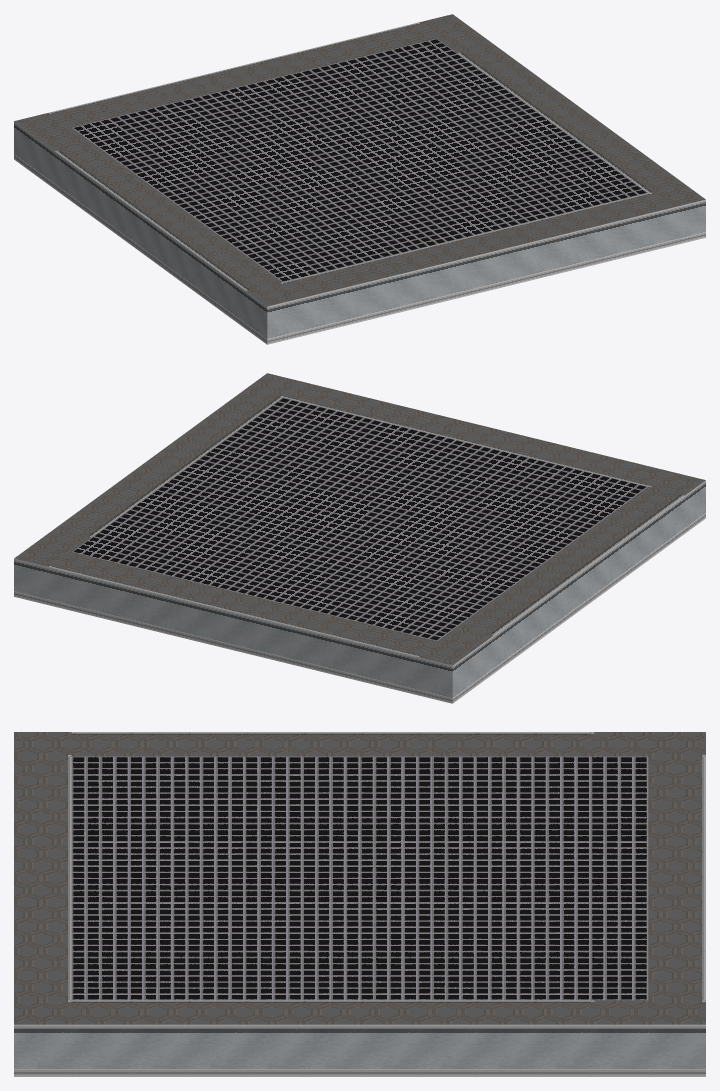
File: GridFloor.glb
The picture shows the model from 3 angles, top to bottom: view 1: azimuth 30°, elevation 25°; view 2: azimuth 150°, elevation 25°; view 3: azimuth 270°, elevation 25°; orthographic projection. The views are drawn at different scales.
Parts seen in each view (by area): view 1: CUBE3DDDD; view 2: CUBE3DDDD; view 3: CUBE3DDDD.
Boxes of the visible parts, x1,y1,x2,y2 form: CUBE3DDDD: (14,14,705,344); CUBE3DDDD: (14,373,705,703); CUBE3DDDD: (14,732,705,1076).
Size of the model in its own units: 12 by 1 by 12.
Materials: 1 (1 with a texture image).
